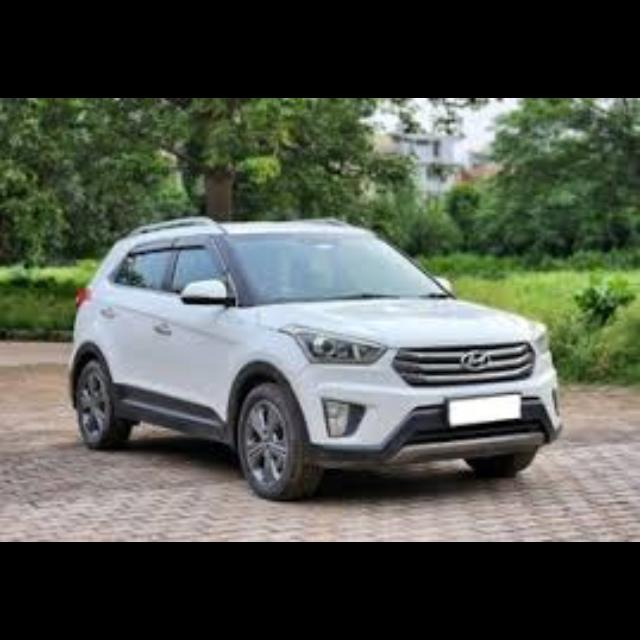number-plate: (445, 390, 521, 426)
vehicles: (57, 208, 564, 503)
